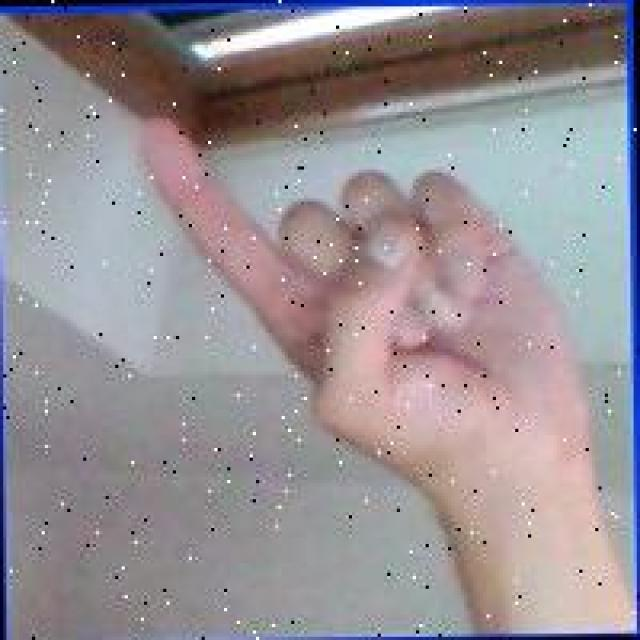Z: (134, 106, 566, 470)
